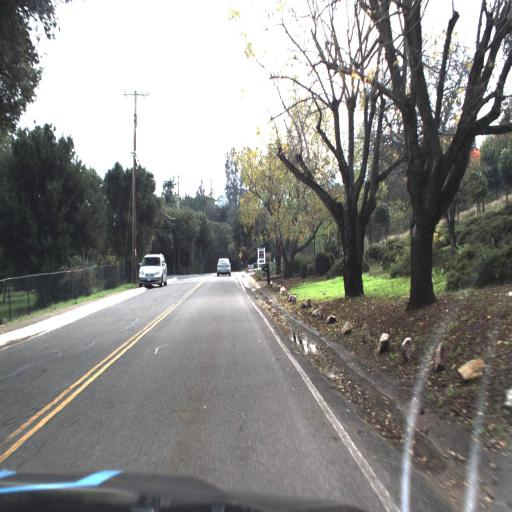car: (133, 250, 170, 288), (213, 254, 234, 282)
